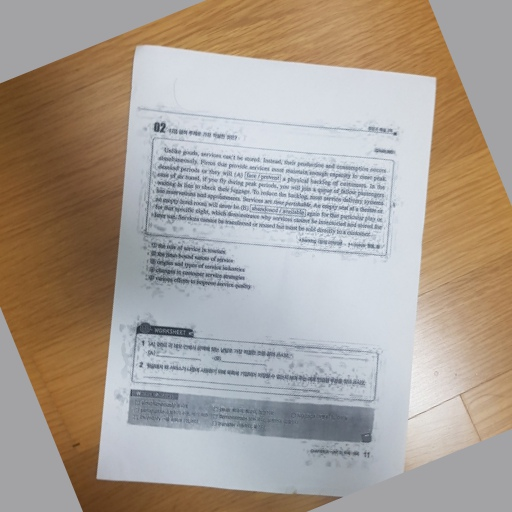Paper_2: (91, 31, 441, 496)
